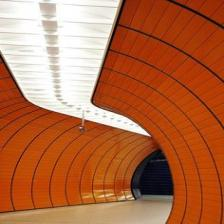orange: (1, 0, 224, 224)
